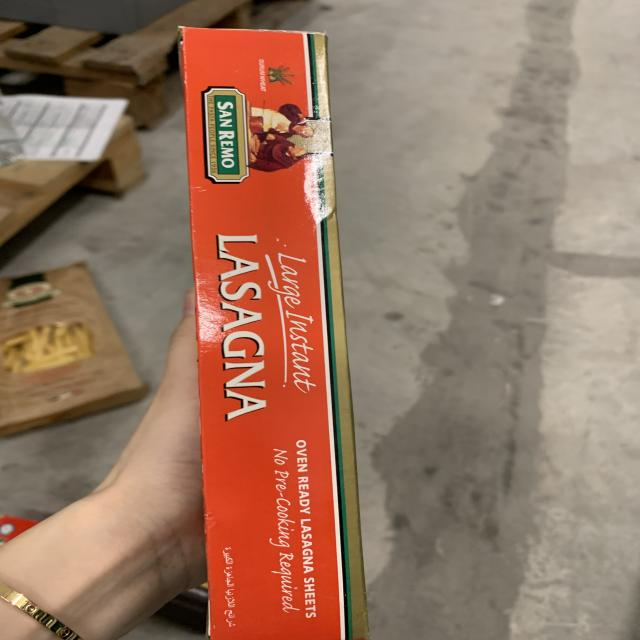object_name: (182, 28, 368, 636)
